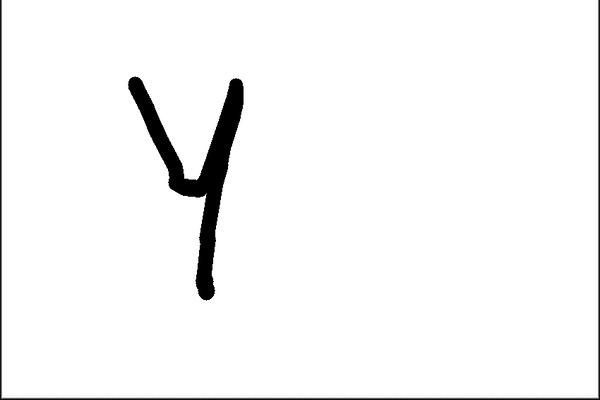Y: (114, 62, 282, 308)
